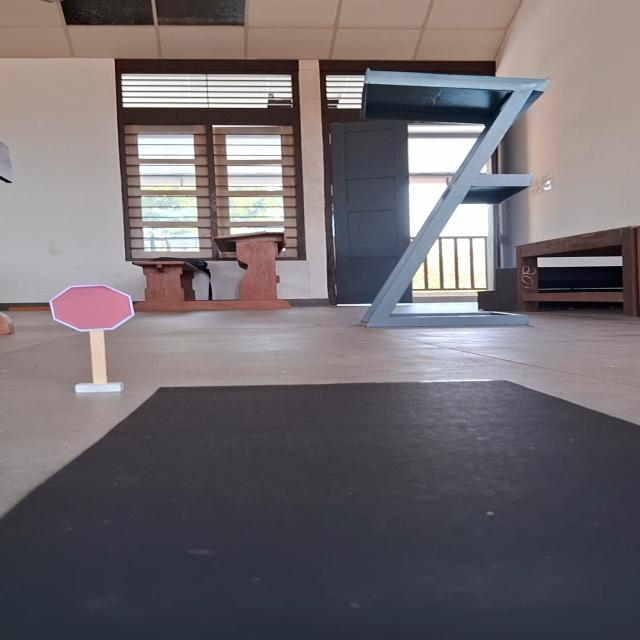Stop: (45, 282, 138, 334)
